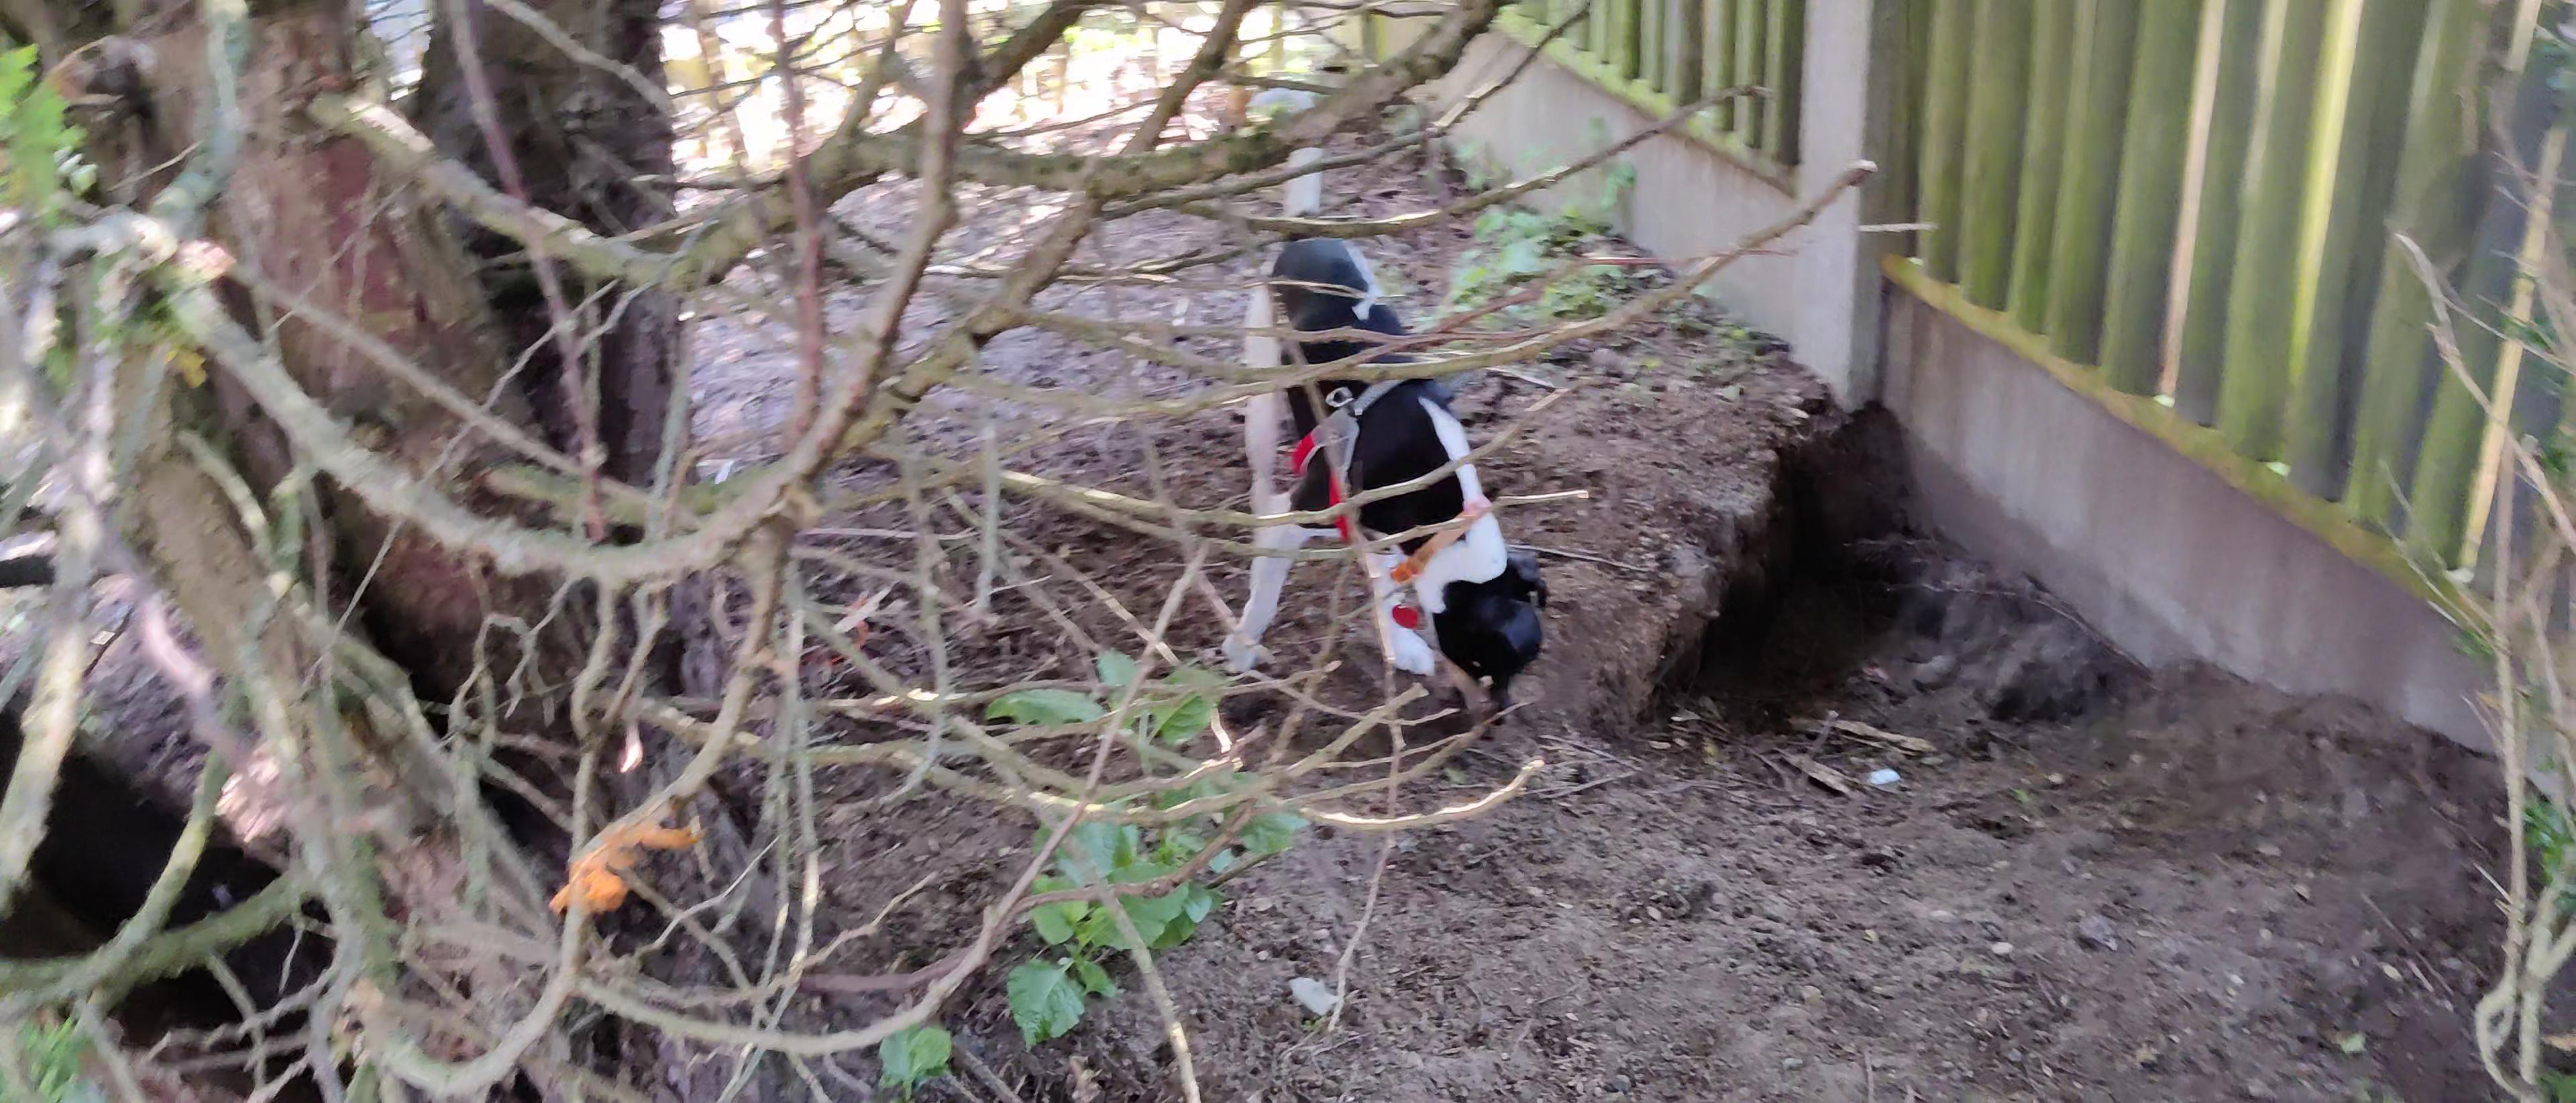Dog: (1203, 54, 1552, 727)
